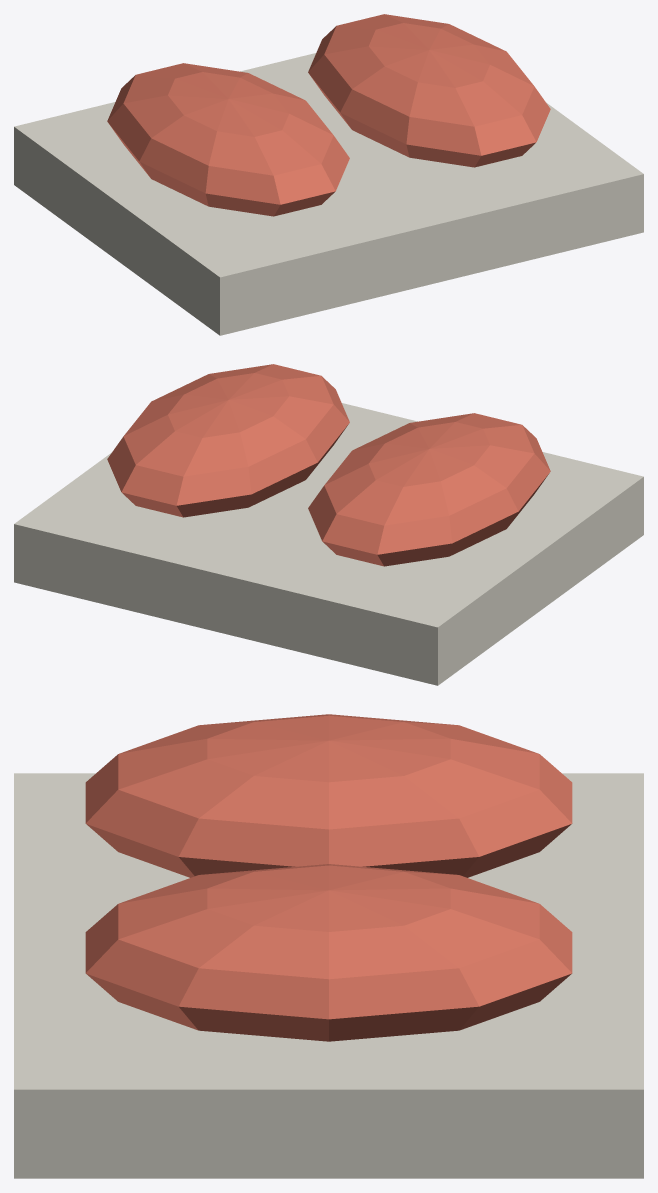
The model's file is supermarket-operations-meat-tray-0dc9e815__26894.glb.
3 views of the same model, one above another, from view 1: azimuth 30°, elevation 25°; view 2: azimuth 150°, elevation 25°; view 3: azimuth 270°, elevation 25° (orthographic). The views are drawn at different scales.
Parts seen in each view (by area): view 1: meat-tray; view 2: meat-tray; view 3: meat-tray.
Boxes of the visible parts, box(x1,y1,x2,y2) form: meat-tray: box(14, 14, 643, 335); meat-tray: box(14, 364, 643, 685); meat-tray: box(14, 714, 643, 1178).
Size of the model in its own units: 0.19 by 0.0575 by 0.16.
